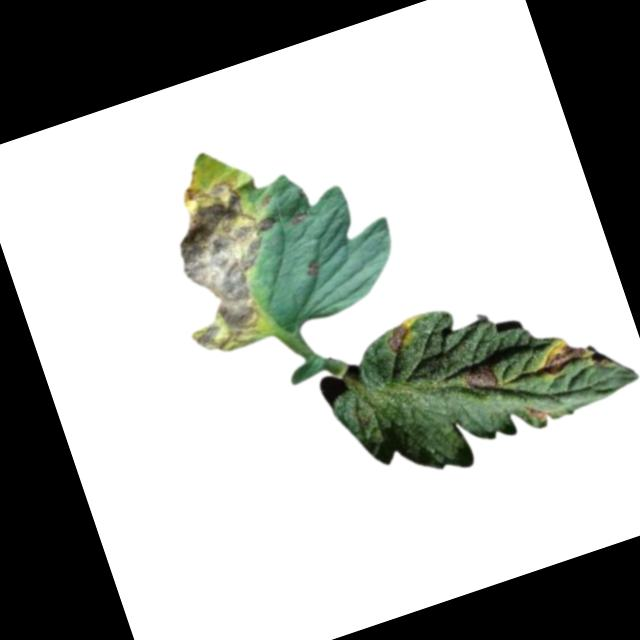Early_blight: (148, 167, 314, 360), (532, 332, 593, 382), (458, 362, 499, 398), (383, 321, 420, 355), (525, 401, 550, 429), (303, 258, 324, 281), (286, 208, 308, 229)
